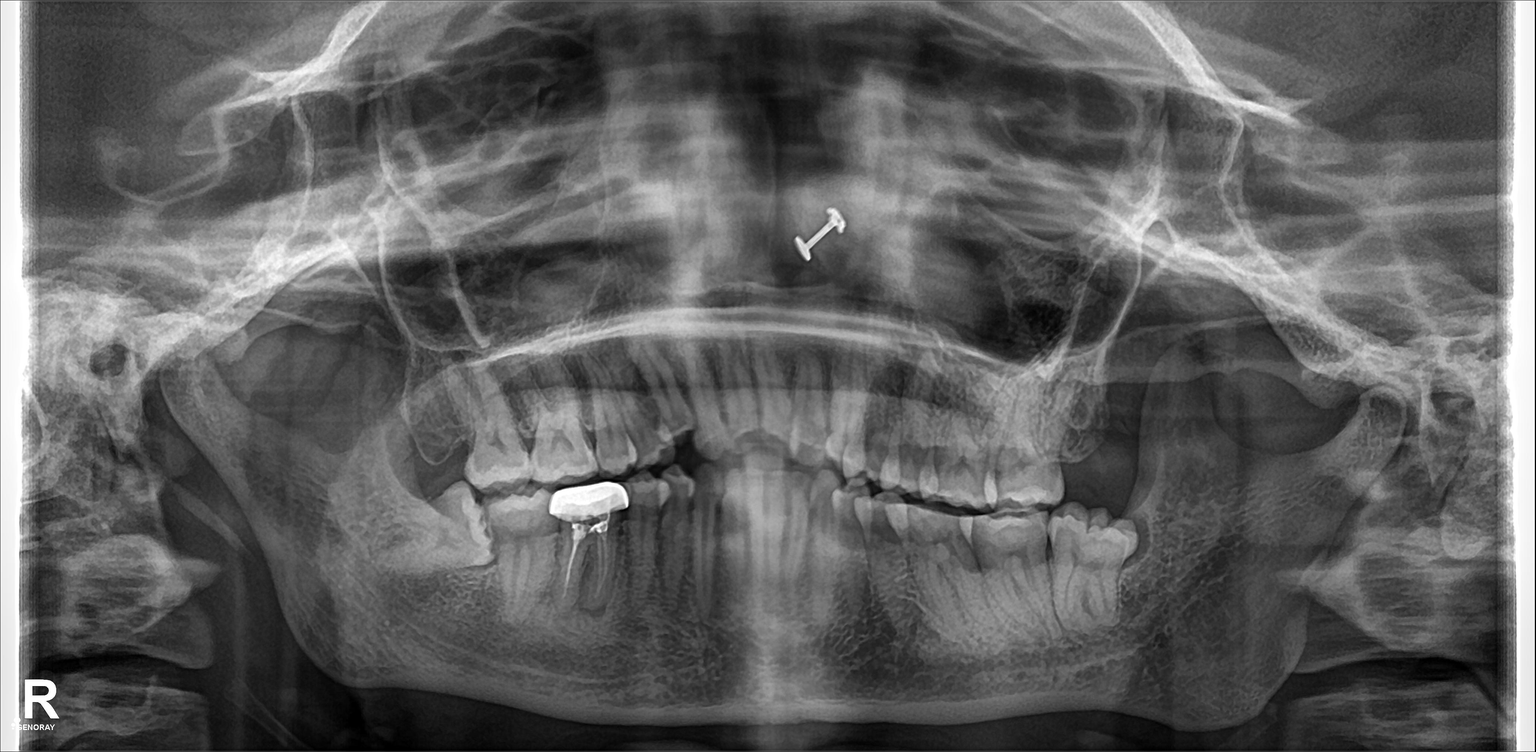Endodontically Treated Tooth: (555, 491, 620, 602)
Impacted Third Molar: (374, 485, 492, 570)
Missing Tooth: (1095, 372, 1143, 487), (410, 396, 474, 474), (1060, 378, 1094, 487)
